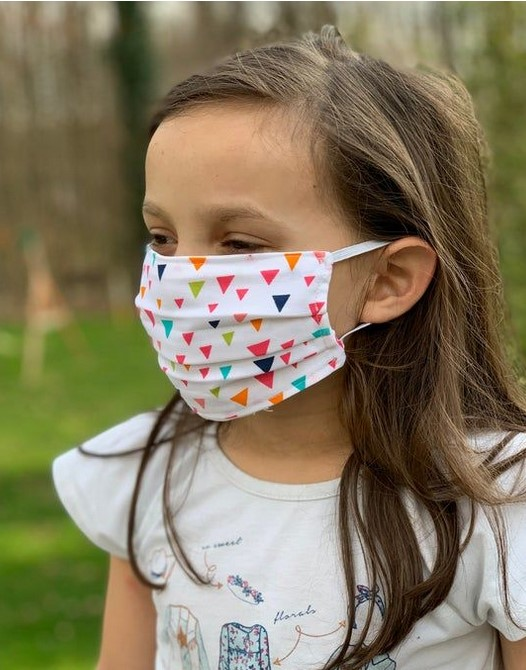face_with_mask: (129, 60, 457, 428)
